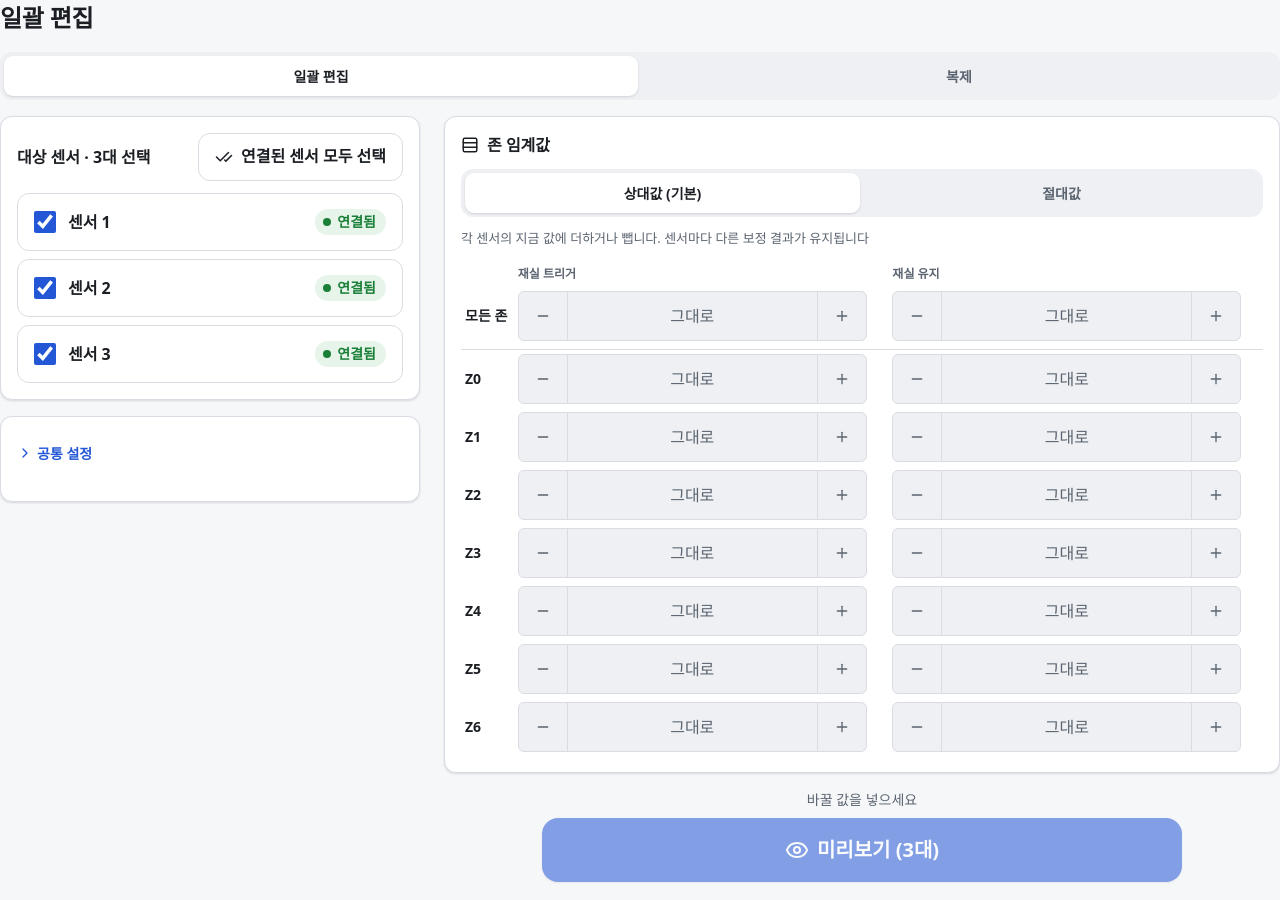
Test: BulkEditScreen: edit › absolute: values clear, the warning shows, and preview waits for the tick
This screenshot has width=1280, height=900.
Type "+5" into the field named "Z0 재실 트리거" at (692, 378), box [567, 354, 818, 402]
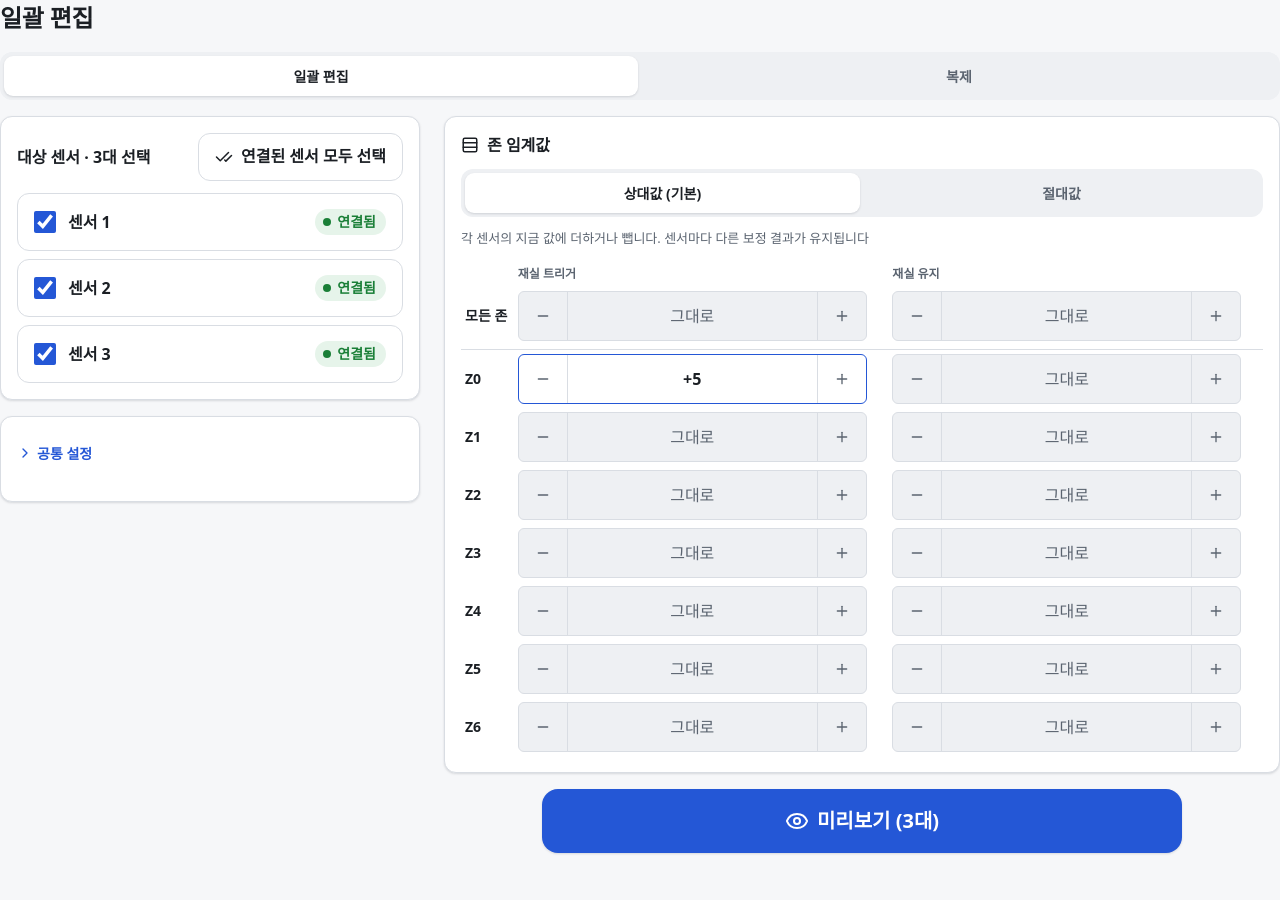
Click the radio button labelled "절대값" at (1062, 193), box [1042, 184, 1081, 202]
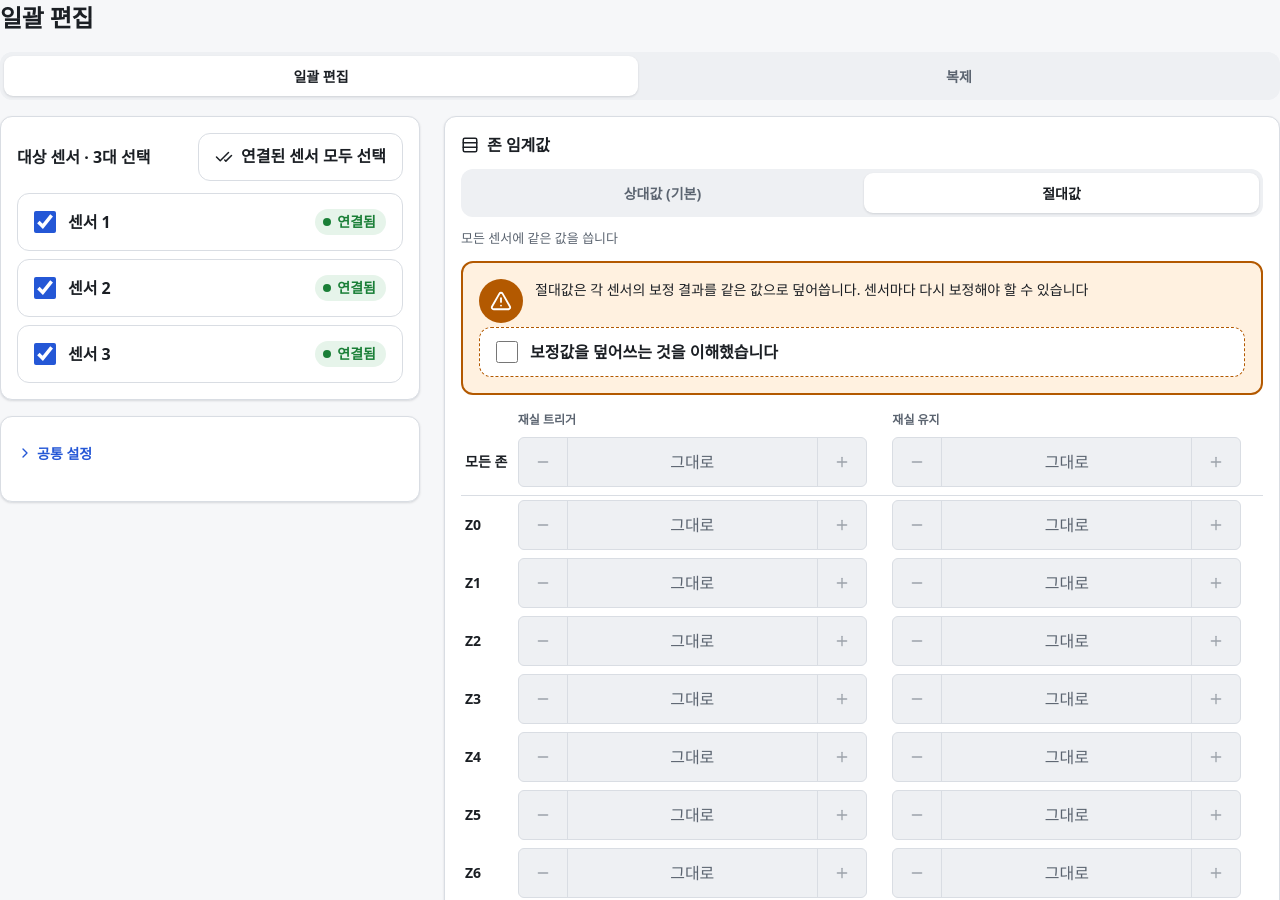
expect the field named "Z0 재실 트리거" is empty: met
expect the message shows "절대값은 각 센서의 보정 결과를 같은 값으로 덮어씁니다": met, box [535, 280, 1088, 298]
expect the button named "Z0 재실 트리거 늘리기" is disabled: met, box [818, 500, 866, 548]
Type "60" into the field named "Z0 재실 트리거" at (692, 524), box [567, 500, 818, 548]
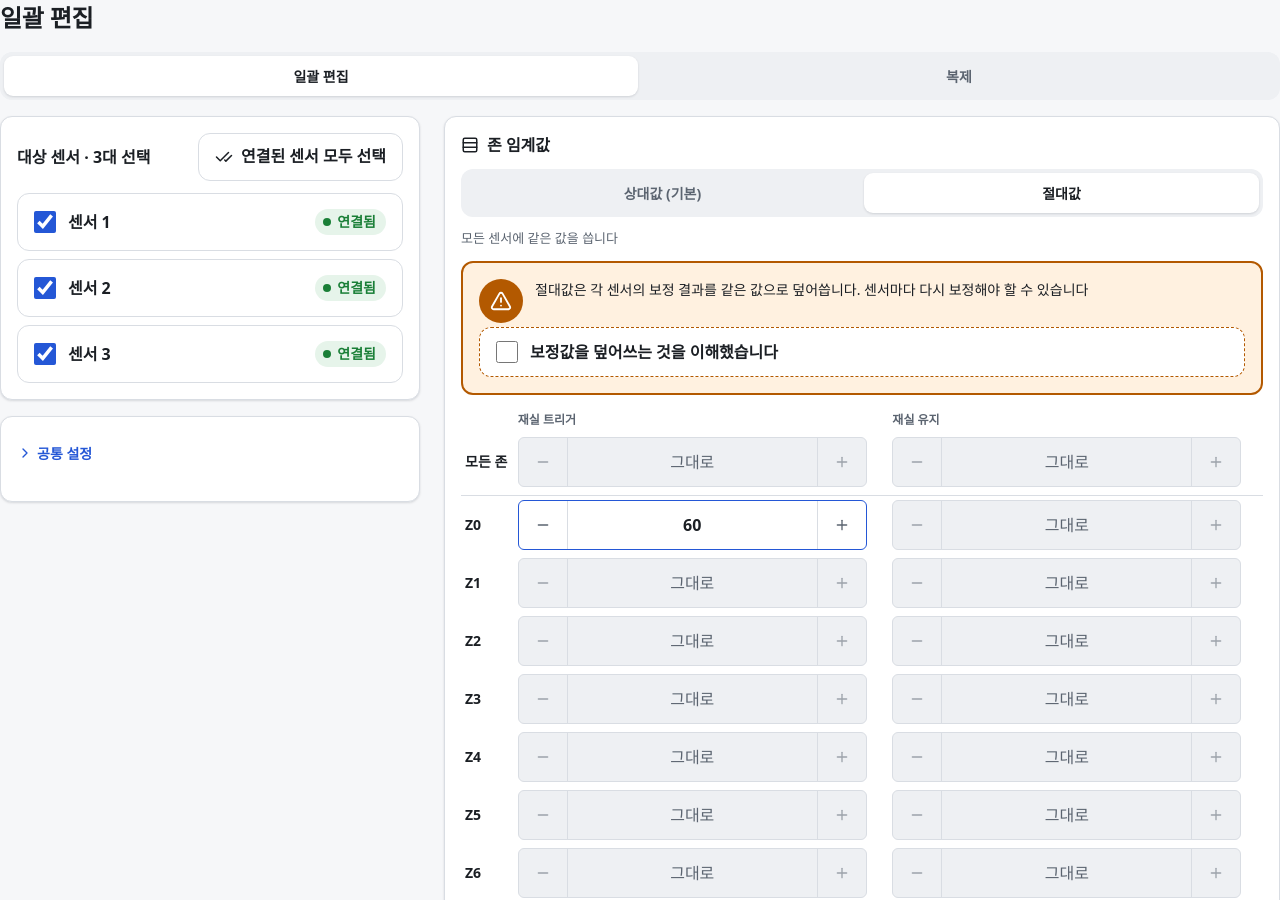
expect the button named "Z0 재실 트리거 늘리기" is enabled: met, box [818, 500, 866, 548]
Click the checkbox labelled "보정값을 덮어쓰는 것을 이해했습니다" at (507, 352), box [496, 340, 518, 362]
(page scrolled)
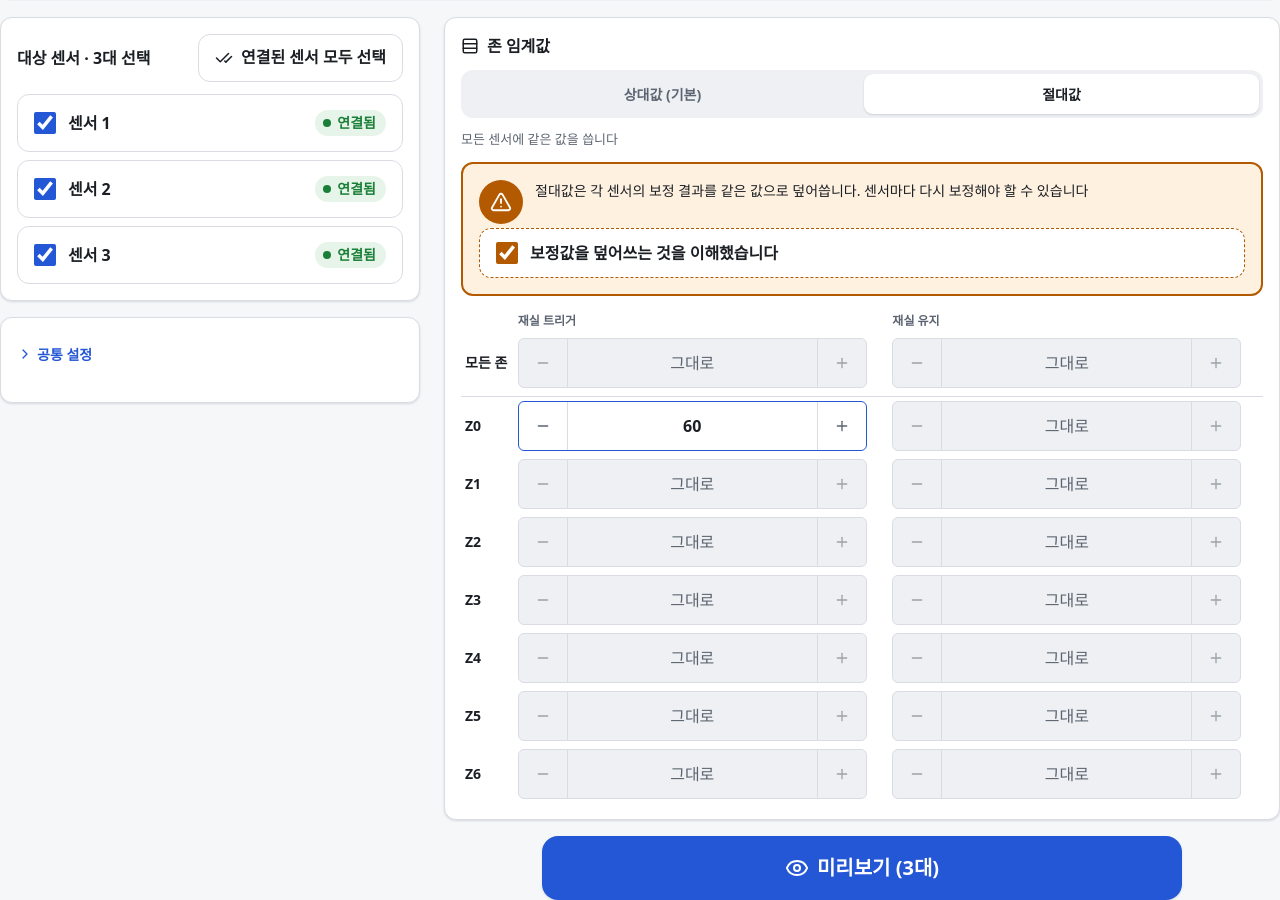
expect the button "미리보기 (3대)" is enabled: met, box [542, 836, 1182, 899]
